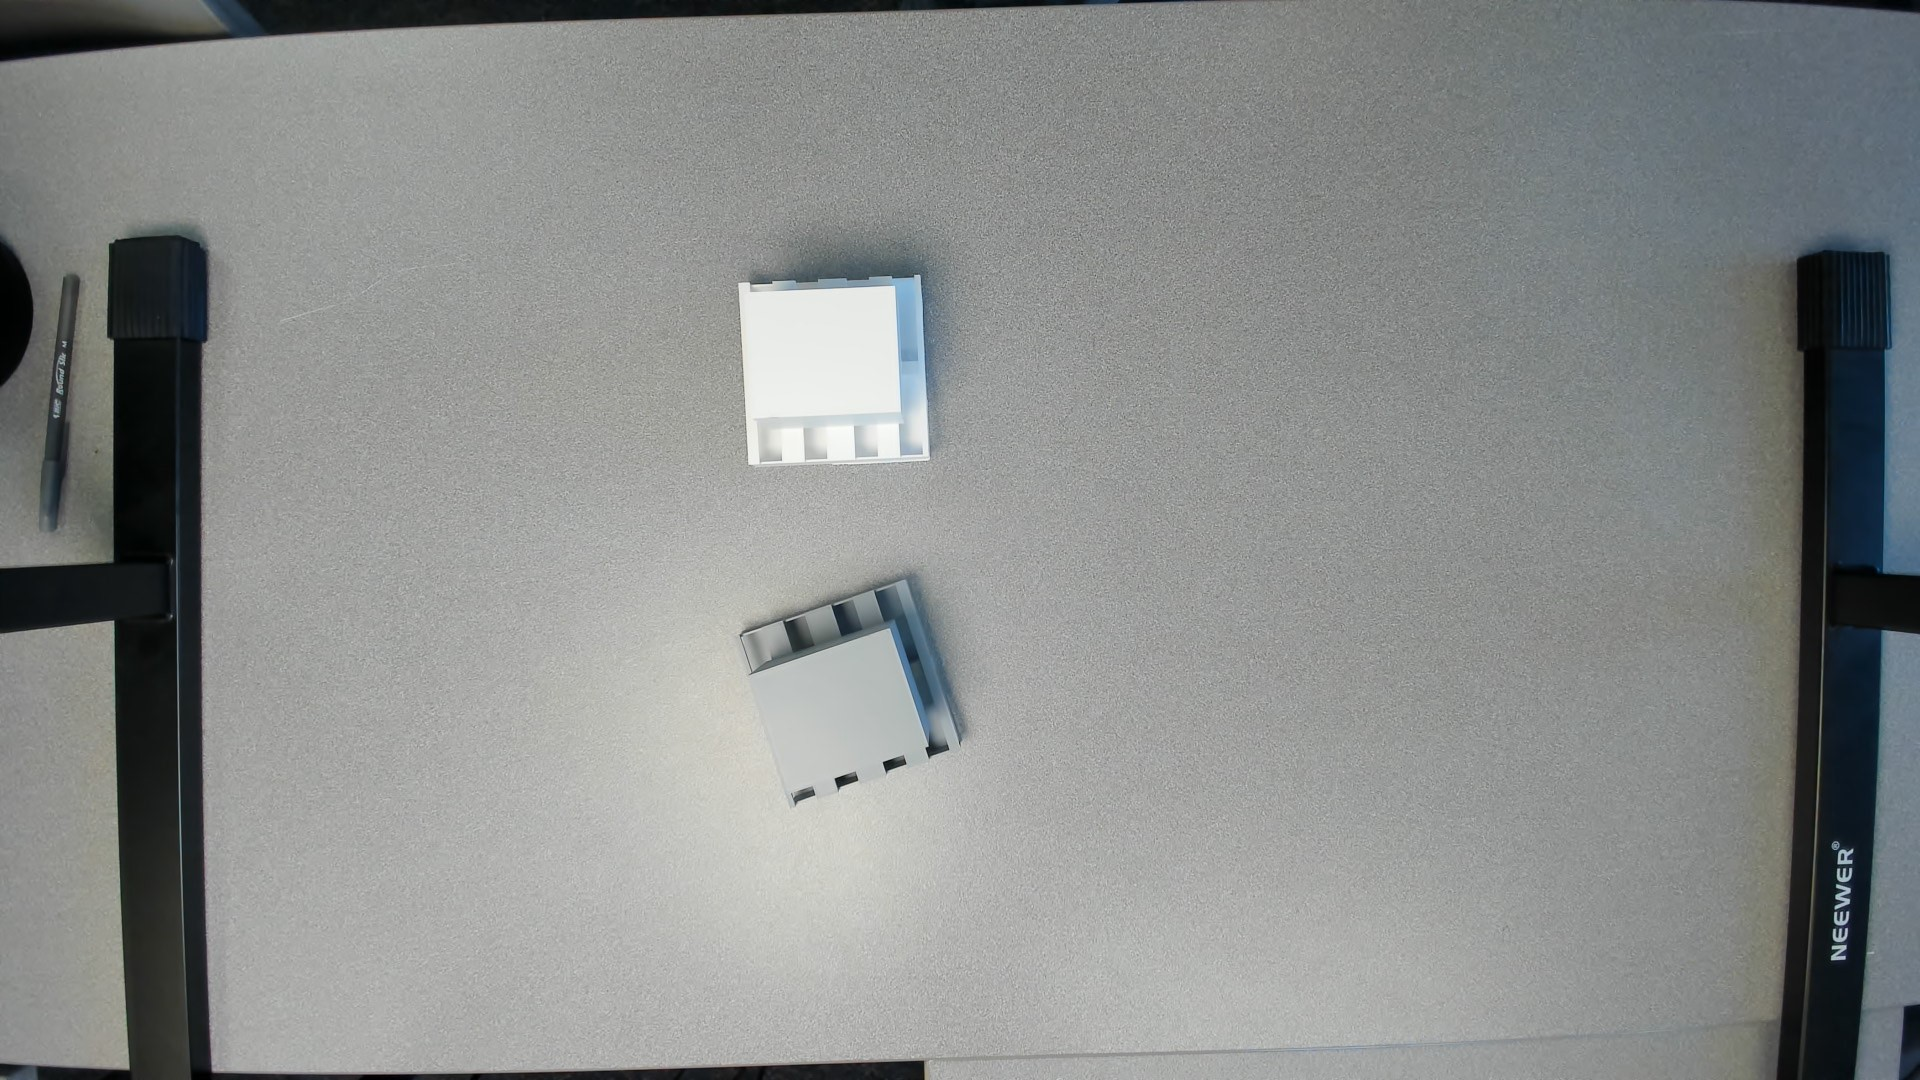grey pallet: (733, 568, 977, 820)
white pallet: (728, 266, 947, 483)
